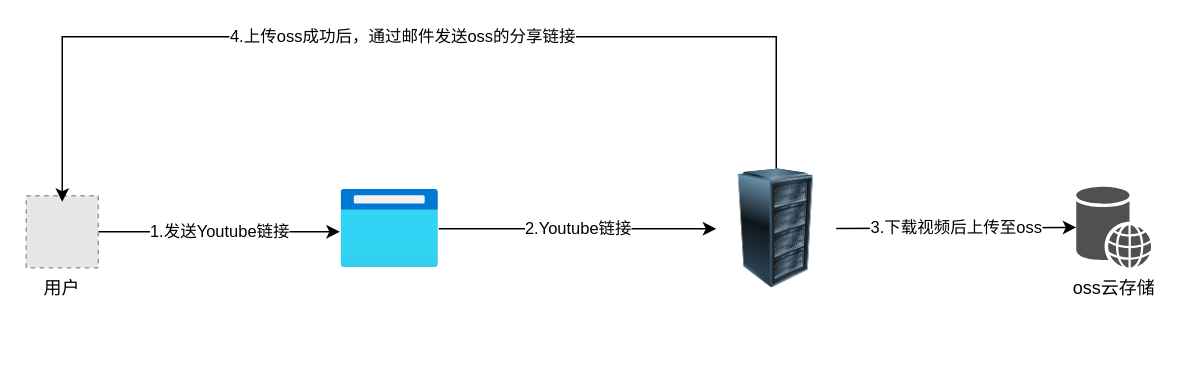
Some shapes in this 1181 by 369 pixel diagram are drawn without their labels. Grey dashed boxes stand in for pictures. Here are the shapes that lost their labels. From the top down, the centre of each, then its label:
At [389,228]: "cloudflareworkers网页".
At [776,228]: "国外服务器 处理链接并下载Youtube视频".
